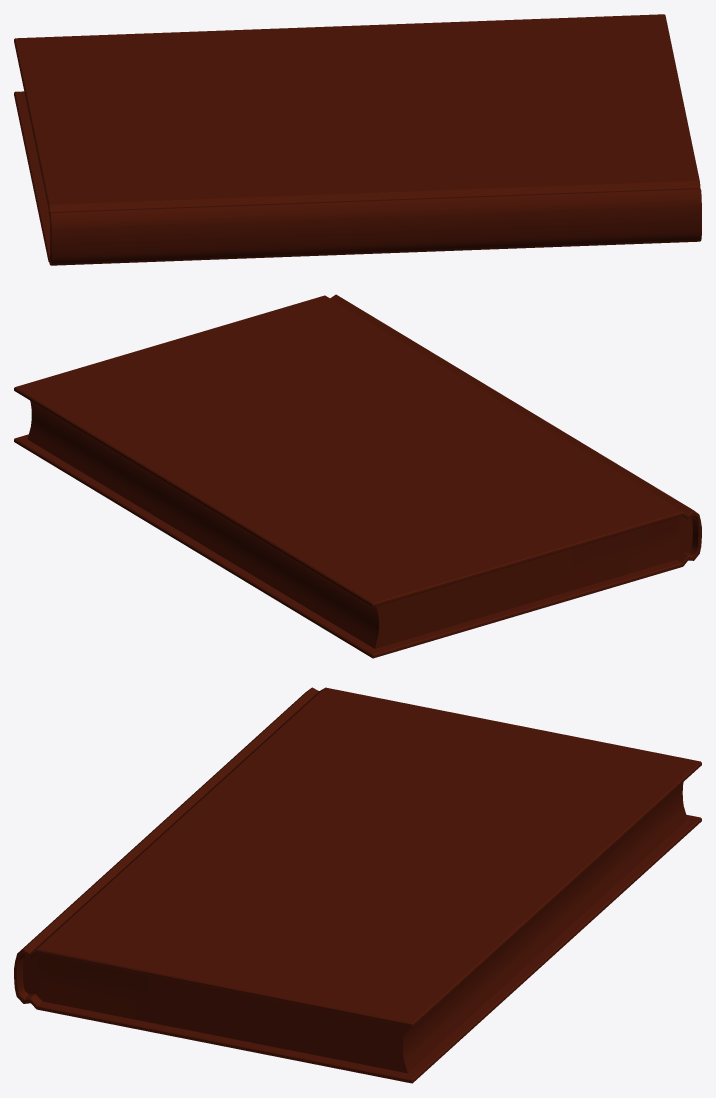
Rendered from books.fbx.
3 views of the same model, one above another, from view 1: azimuth 30°, elevation 25°; view 2: azimuth 150°, elevation 25°; view 3: azimuth 270°, elevation 25° (orthographic). The views are drawn at different scales.
Visible parts, largest first — view 1: Line015; view 2: Line015; view 3: Line015.
Boxes of the visible parts, left/top/right/bottom form: Line015: left=14, top=14, right=701, bottom=265; Line015: left=14, top=294, right=701, bottom=658; Line015: left=14, top=687, right=701, bottom=1083.
Bounding box in the file's own units: 122 × 10.09 × 104.
